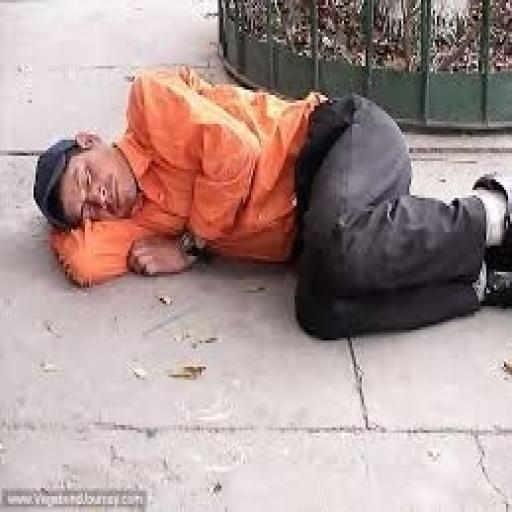sleeping: (32, 60, 510, 340)
